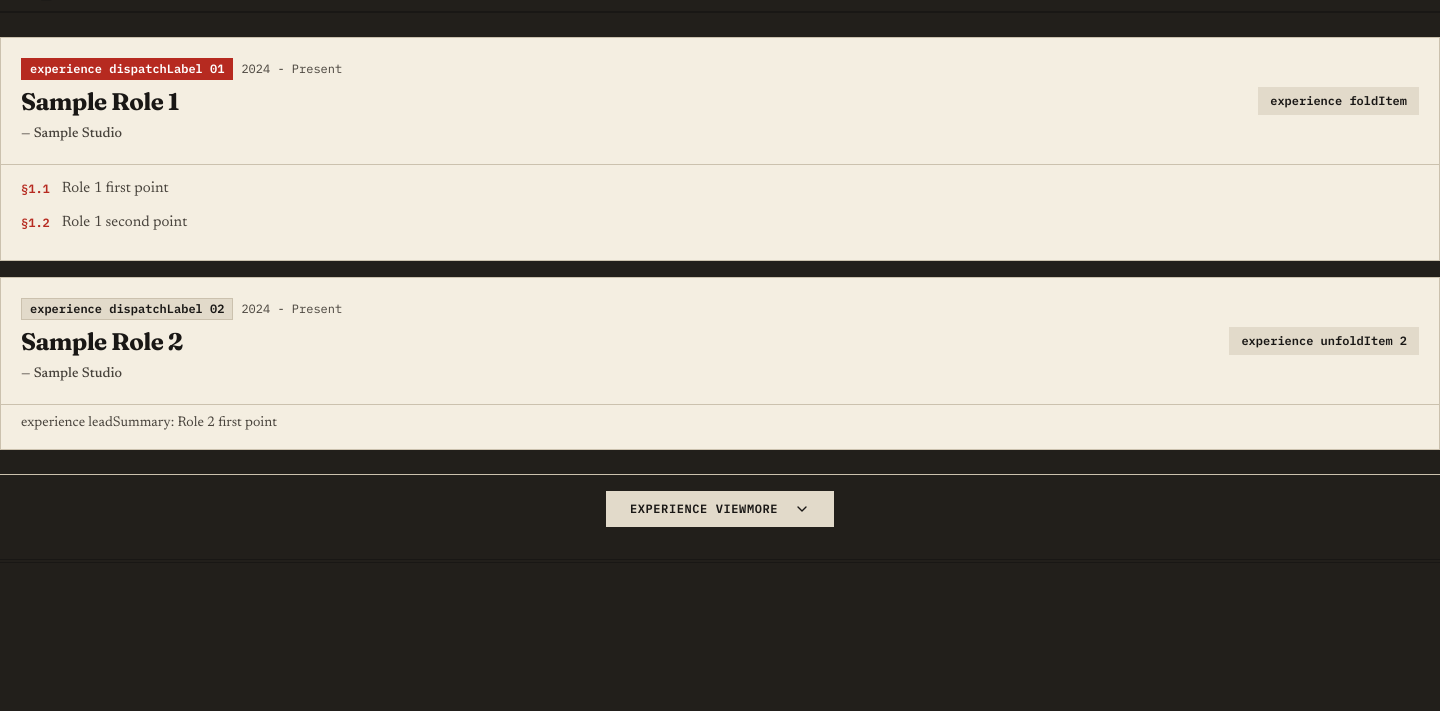
Test: interactions › reveals and hides an archived experience role without deleting it
The width and height of the screenshot is (1440, 711).
Expected: the heading "Sample Role 3" is not shown
What coordinates should you click on to do the following:
click the button "experience viewMore"
I would click on:
 (720, 509)
Its box is [606,491,834,527].
(page scrolled)
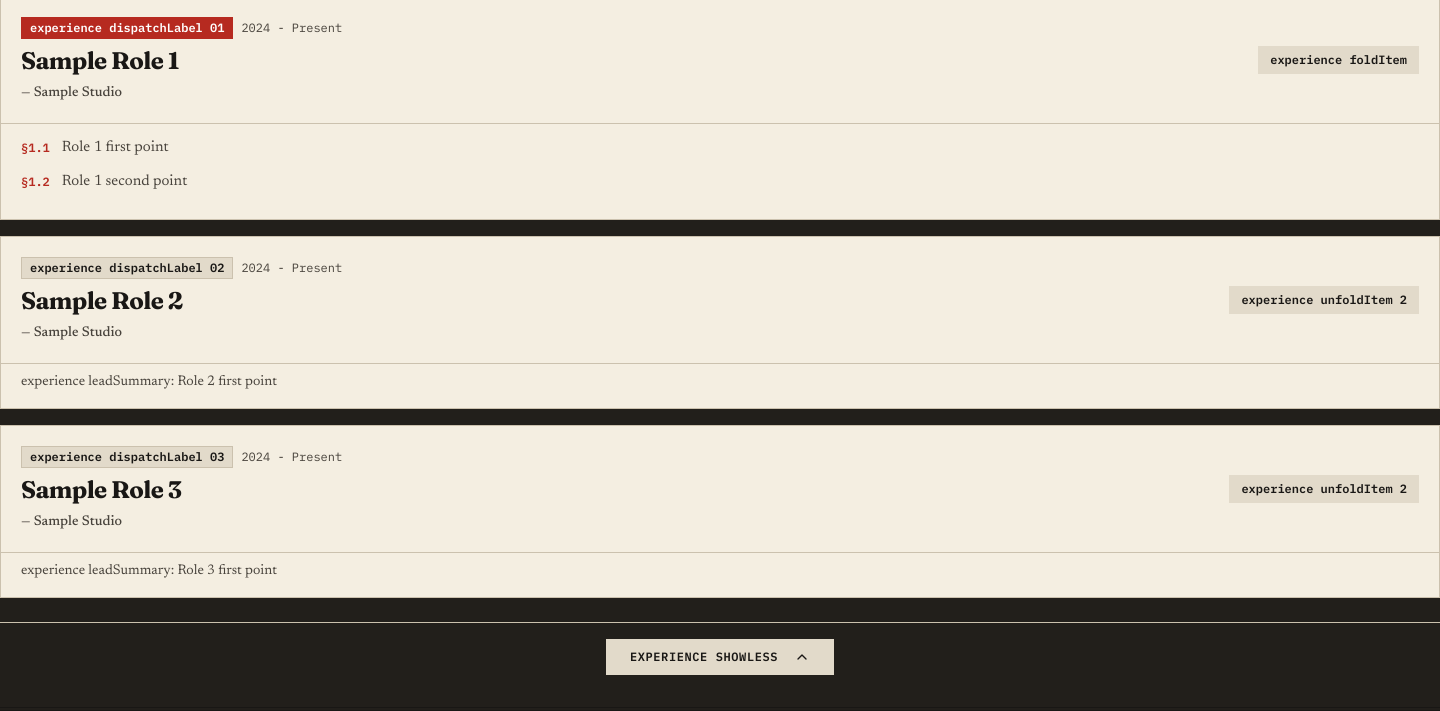
Expected: the heading "Sample Role 3" is shown, [21,475,181,504]
What coordinates should you click on to do the following:
click the button "experience showLess"
I would click on:
 (720, 657)
Its box is [606,639,834,675].
(page scrolled)
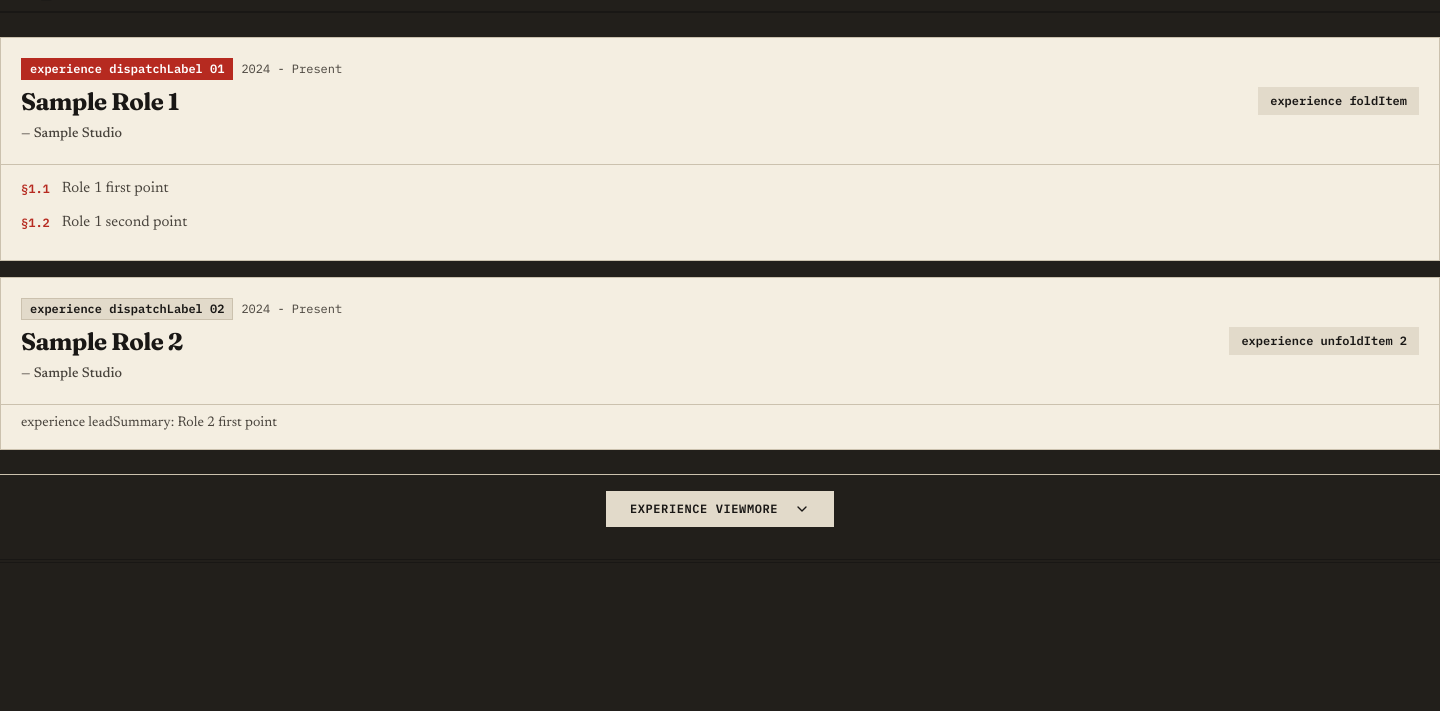
Expected: the heading "Sample Role 3" is gone
